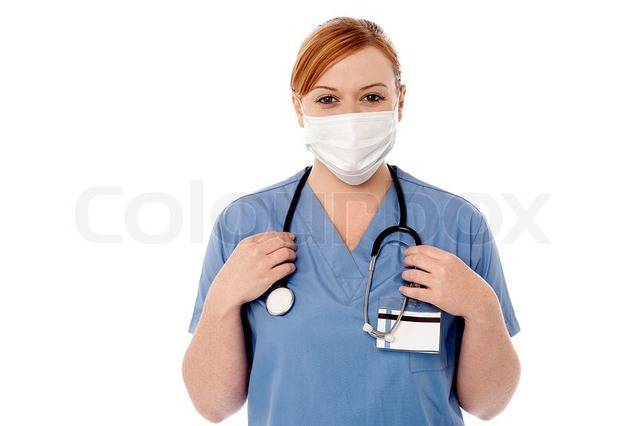mask: (305, 116, 400, 185)
